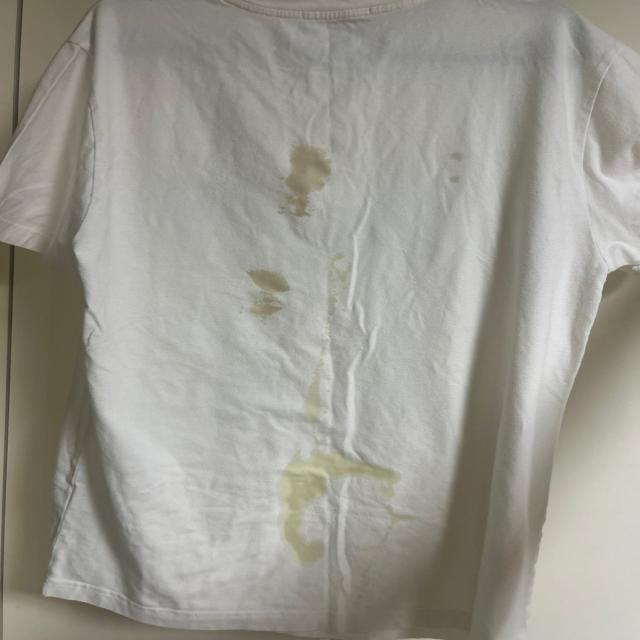stain: (272, 445, 409, 501), (300, 294, 350, 424), (278, 133, 340, 220), (228, 256, 298, 328), (266, 494, 333, 568), (366, 498, 419, 544), (328, 244, 365, 294), (442, 142, 470, 188)
